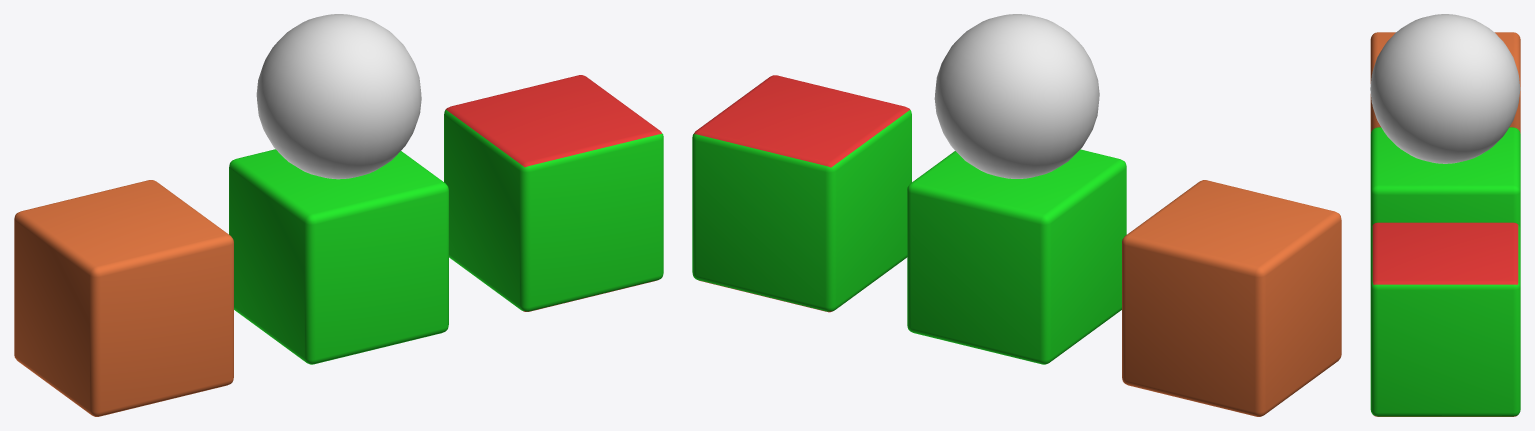
File: multi-cube-material.fbx
3 views of the same model, side by side, from view 1: azimuth 30°, elevation 25°; view 2: azimuth 150°, elevation 25°; view 3: azimuth 270°, elevation 25° (orthographic). The views are drawn at different scales.
Parts seen in each view (by area): view 1: Cube.000, Cube.002, Sphere; view 2: Cube.000, Cube.002, Sphere; view 3: Cube.000, Sphere, Cube.002.
Part boxes in pixels (left/top/right/bottom): Cube.000: left=229, top=75, right=663, bottom=364; Cube.002: left=14, top=180, right=233, bottom=416; Sphere: left=256, top=14, right=421, bottom=179; Cube.000: left=692, top=75, right=1126, bottom=364; Cube.002: left=1122, top=180, right=1341, bottom=416; Sphere: left=934, top=14, right=1099, bottom=178; Cube.000: left=1370, top=127, right=1520, bottom=416; Sphere: left=1370, top=14, right=1520, bottom=163; Cube.002: left=1370, top=32, right=1520, bottom=133.
Bounding box in the file's own units: 800 × 399 × 200.
